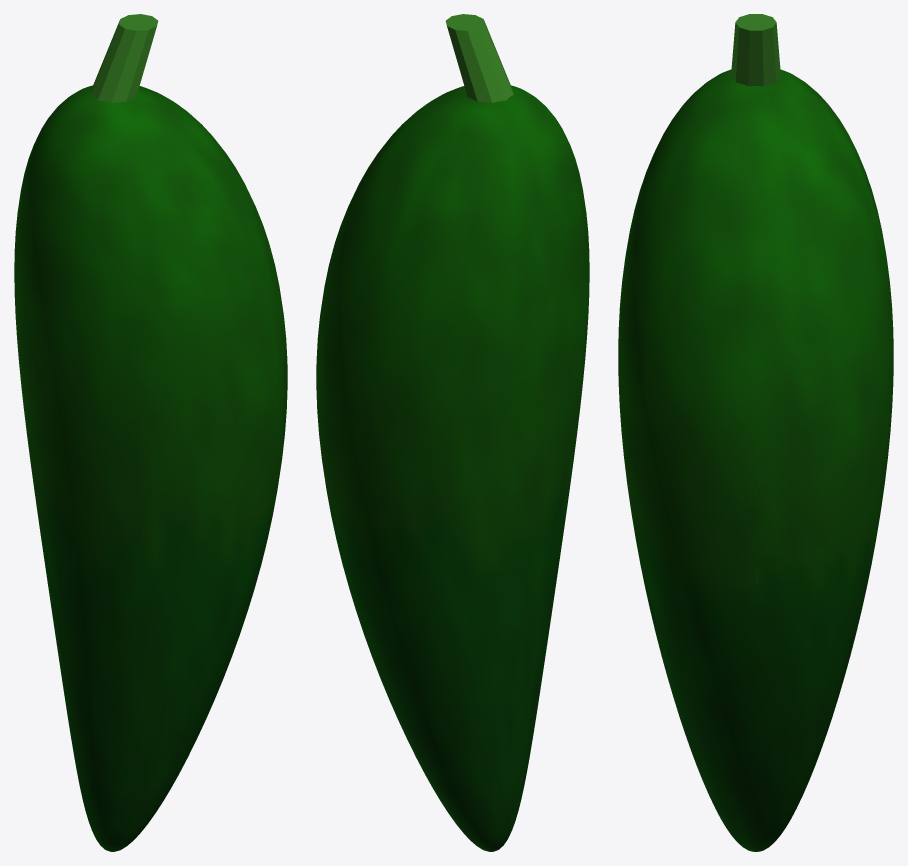
File: piment-vert.glb
3 views of the same model, side by side, from view 1: azimuth 30°, elevation 25°; view 2: azimuth 150°, elevation 25°; view 3: azimuth 270°, elevation 25° (orthographic). The views are drawn at different scales.
Visible parts, largest first — view 1: entier_peau, moitie_B_peau, entier_extra0, moitie_A_peau; view 2: entier_peau, moitie_A_peau, entier_extra0, moitie_B_peau; view 3: entier_peau, moitie_A_peau, moitie_B_peau, entier_extra0.
Boxes of the visible parts, x1,y1,x2,y2 form: entier_peau: [14, 85, 287, 851]; moitie_B_peau: [31, 89, 287, 851]; entier_extra0: [90, 14, 158, 103]; moitie_A_peau: [17, 89, 162, 832]; entier_peau: [316, 85, 589, 851]; moitie_A_peau: [316, 91, 571, 850]; entier_extra0: [445, 14, 513, 103]; moitie_B_peau: [453, 86, 589, 843]; entier_peau: [618, 69, 893, 851]; moitie_A_peau: [756, 76, 893, 850]; moitie_B_peau: [618, 70, 755, 851]; entier_extra0: [731, 14, 780, 86].
Bounding box in the file's own units: 0.6545 × 2.16 × 0.6412.
